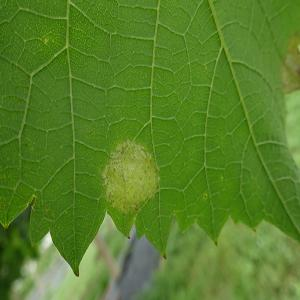Folha: (0, 0, 300, 276)
Fungo: (101, 138, 159, 216)
